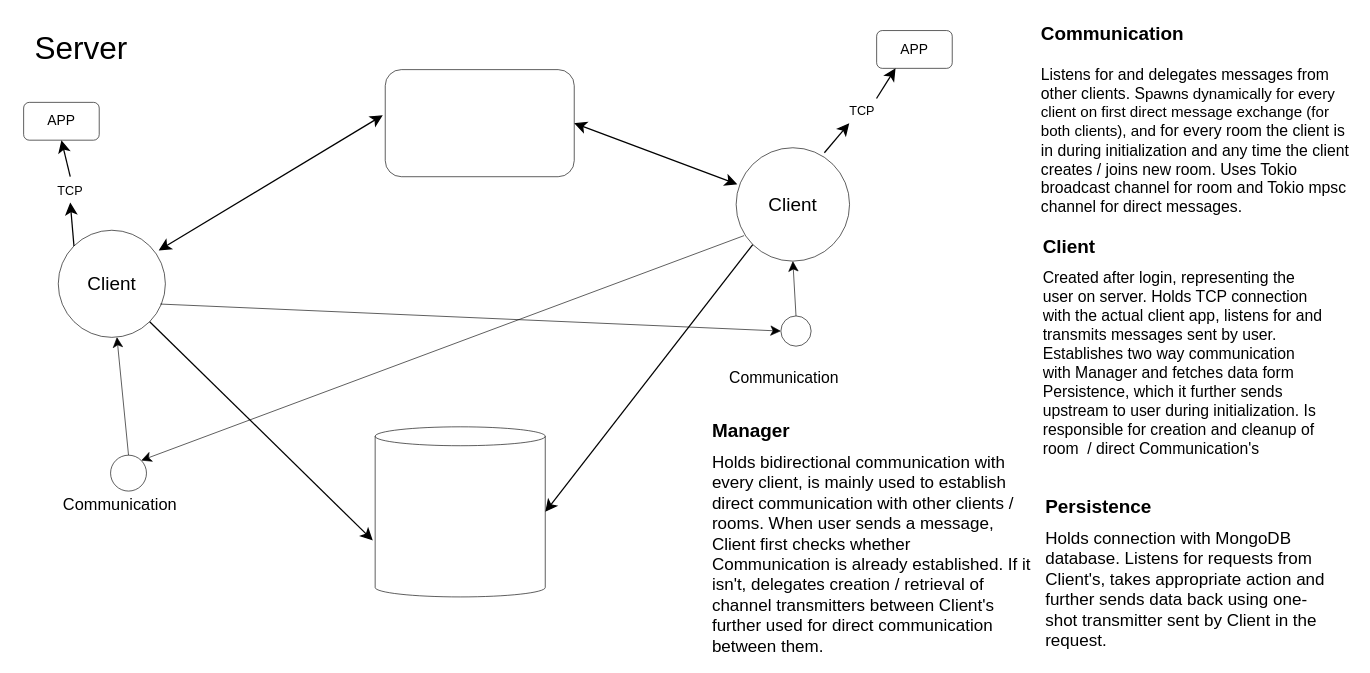
The diagram is 1370 pixels wide and 673 high, and some of its shapes have lost their labels. The box of each missing label's shape, as (x1, y1, x2, y2) in pixels:
Manager: (385, 69, 574, 177)
Persistence: (375, 426, 545, 597)
